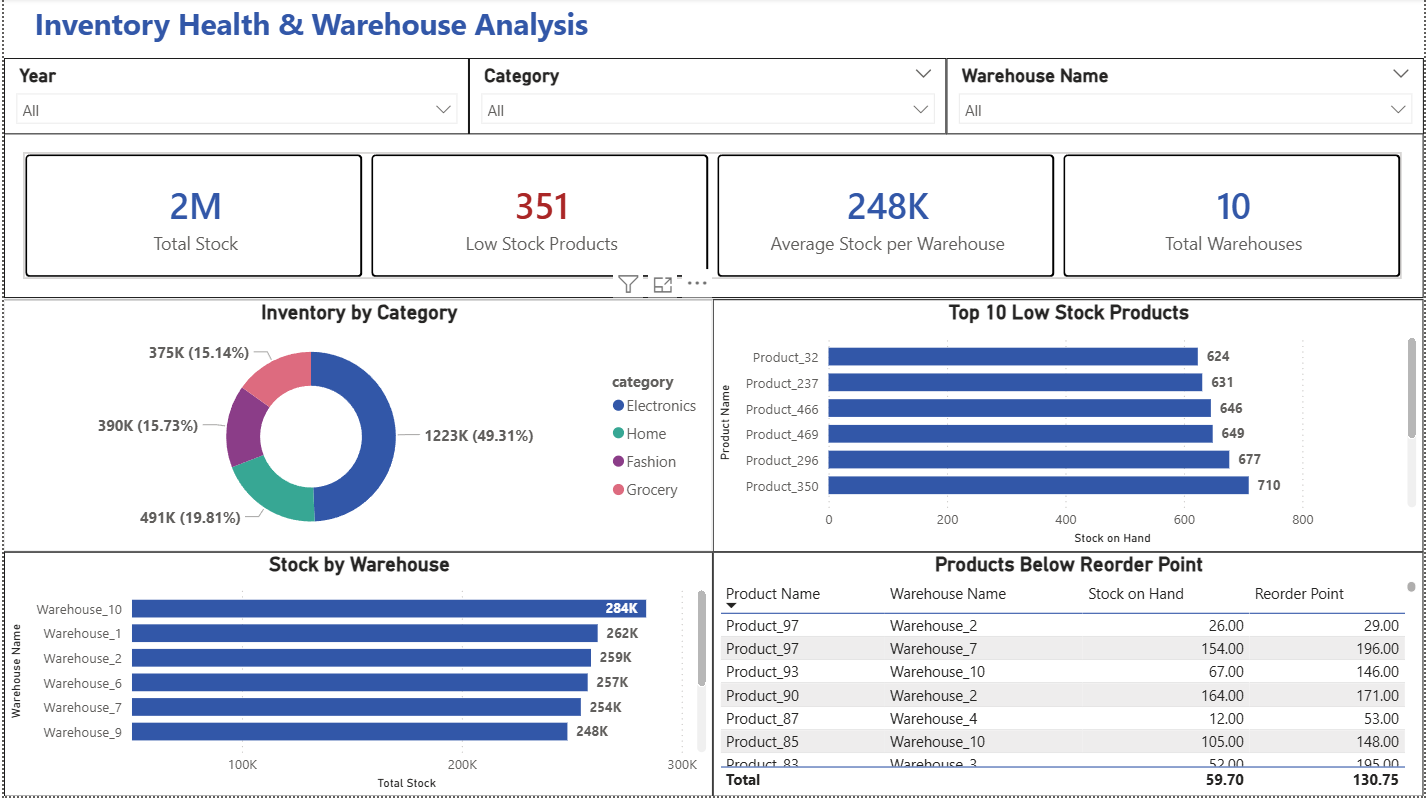

The page's visual inventory and layout, read from the dashboard file:
{"tool":"powerbi","page":{"name":"Inventory Health & Warehouse Analysis","canvas":[1280,720],"ordinal":2},"visuals":[{"type":"cardVisual","fields":{"Data":["measures .Total Stock","measures .Low Stock Products","measures .Inventory Utilisation %","measures .Total Warehouses"]},"box":[0,122.3,1280.3,149.2],"z":0},{"type":"clusteredBarChart","title":"Stock by Warehouse","fields":{"Category":["Dim Warehouses.warehouse_name"],"Y":["measures .Total Stock"]},"box":[0,499.5,639.5,220.9],"z":1000},{"type":"clusteredBarChart","title":"Top 10  Low Stock Products","fields":{"Category":["Dim Products.product_name"],"Y":["Avg(Fact Inventory.stock_on_hand)"]},"box":[639.5,270.9,640.7,229.1],"z":2000},{"type":"donutChart","title":"Inventory by Category","fields":{"Category":["Dim Products.category"],"Y":["measures .Total Stock"]},"box":[0,270.9,639.5,229.1],"z":3000},{"type":"tableEx","title":"Products Below Reorder Point ","fields":{"Values":["Dim Products.product_name","Dim Warehouses.warehouse_name","Avg(Fact Inventory.stock_on_hand)","Avg(Fact Inventory.reorder_point)"]},"box":[639.5,499.5,640.8,220.9],"z":4000},{"type":"slicer","fields":{"Values":["Dim Date.year_number"]},"box":[0,53.8,419.4,68.5],"z":5000},{"type":"slicer","fields":{"Values":["Dim Products.category"]},"box":[419.4,53.8,430.4,68.5],"z":6000},{"type":"slicer","fields":{"Values":["Dim Warehouses.warehouse_name"]},"box":[849.9,53.8,430.4,68.5],"z":7000},{"type":"textbox","box":[0,0,553.9,53.8],"z":8000}]}

Visuals, with their boxes in screenshot pixels (x1, y1, x2, y2), scaled from the page's 1280x720 canvas onto the 1426x798 screenshot:
cardVisual - measures .Total Stock x measures .Low Stock Products: bbox=[0, 136, 1425, 301]
"Stock by Warehouse" clusteredBarChart: bbox=[0, 554, 712, 797]
"Top 10  Low Stock Products" clusteredBarChart: bbox=[712, 300, 1425, 554]
"Inventory by Category" donutChart: bbox=[0, 300, 712, 554]
"Products Below Reorder Point " tableEx: bbox=[712, 554, 1425, 797]
slicer - Dim Date.year_number: bbox=[0, 60, 467, 136]
slicer - Dim Products.category: bbox=[467, 60, 947, 136]
slicer - Dim Warehouses.warehouse_name: bbox=[947, 60, 1425, 136]
textbox: bbox=[0, 0, 617, 60]
